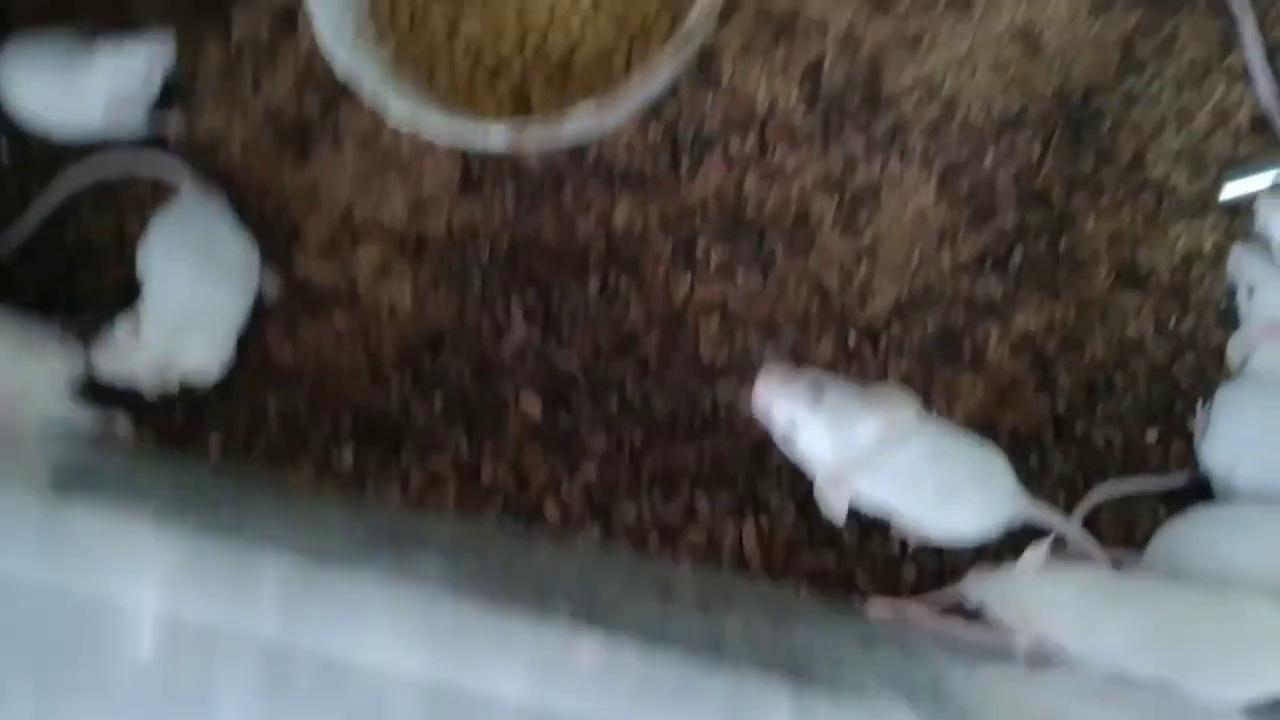rat: (756, 357, 1104, 565), (0, 146, 259, 388)
